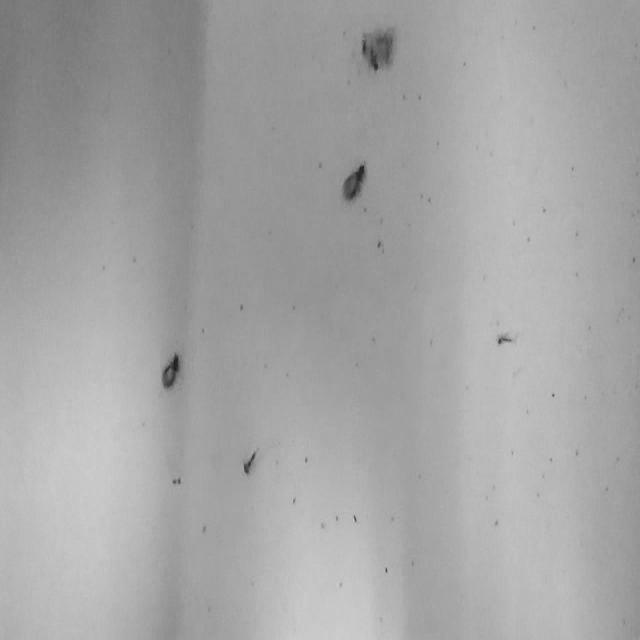larvas: (342, 164, 366, 200), (359, 36, 377, 72), (160, 353, 178, 387), (243, 441, 260, 475), (375, 30, 393, 60), (498, 330, 518, 342)
